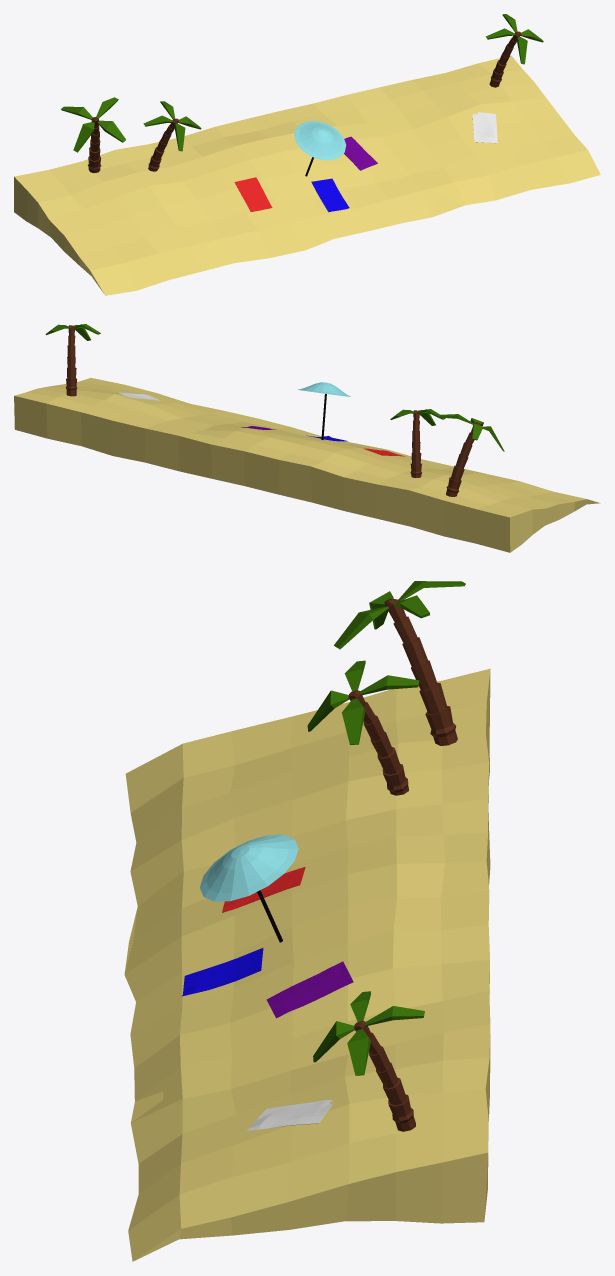
Rendered from beach.glb.
3 renders of one model, top to bottom at view 1: azimuth 30°, elevation 25°; view 2: azimuth 150°, elevation 25°; view 3: azimuth 270°, elevation 25°, orthographic. The views are drawn at different scales.
Parts seen in each view (by area): view 1: Cube, Cylinder.001, Sphere, Cylinder.003, Cylinder.002, Plane.002, Plane, Plane.003, Plane.001; view 2: Cube, Cylinder.001, Cylinder.003, Cylinder.002, Sphere; view 3: Cube, Cylinder.001, Cylinder.003, Sphere, Cylinder.002, Plane.001, Plane, Plane.003, Plane.002.
Part boxes in pixels (<box>): Cube: <box>14,55,600,295</box>; Cylinder.001: <box>61,97,125,172</box>; Sphere: <box>294,121,346,160</box>; Cylinder.003: <box>485,14,543,87</box>; Cylinder.002: <box>143,101,201,171</box>; Plane.002: <box>234,177,272,211</box>; Plane: <box>311,178,349,212</box>; Plane.003: <box>472,112,497,143</box>; Plane.001: <box>344,136,377,170</box>; Cube: <box>14,378,600,552</box>; Cylinder.001: <box>439,414,504,496</box>; Cylinder.003: <box>45,324,100,396</box>; Cylinder.002: <box>390,409,445,477</box>; Sphere: <box>298,382,350,396</box>; Cube: <box>124,668,490,1261</box>; Cylinder.001: <box>334,581,465,745</box>; Cylinder.003: <box>313,991,424,1131</box>; Sphere: <box>200,834,298,901</box>; Cylinder.002: <box>307,660,419,795</box>; Plane.001: <box>266,961,353,1018</box>; Plane: <box>182,948,263,996</box>; Plane.003: <box>246,1099,333,1130</box>; Plane.002: <box>222,867,305,912</box>.
Size of the model in its own units: 26.82 by 6.55 by 8.54.
